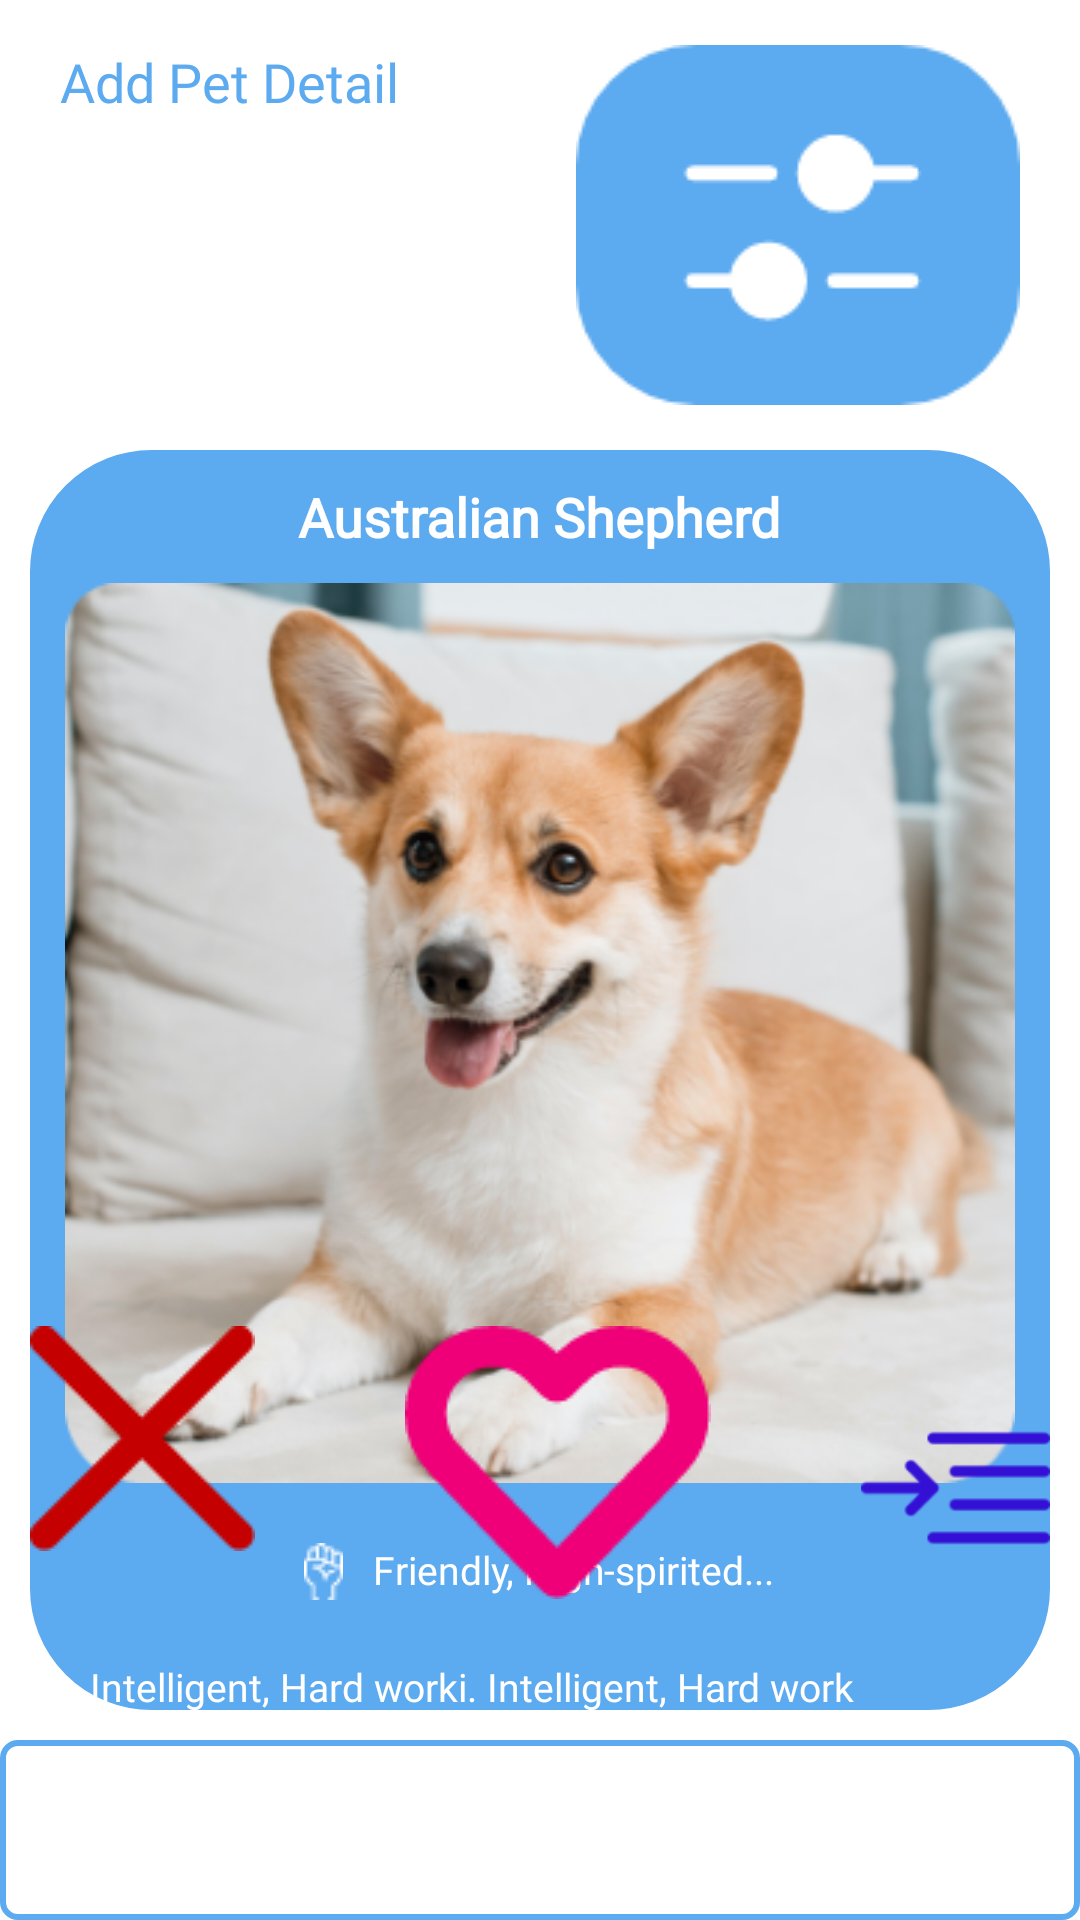

Icon click points for this 1080 × 1920 phone screenshot, format (x,y):
delete: (142,1468)
